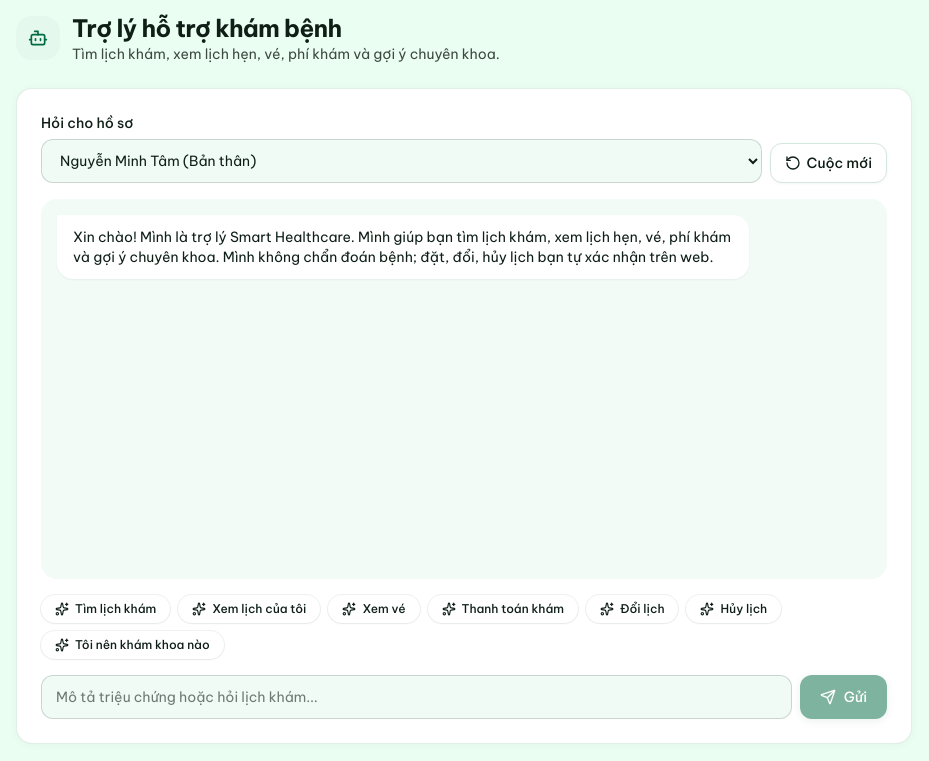
it: Patient Web › P25: suggestion button sends a turn and appointment option links to ticket, reschedule, cancel
This screenshot has width=929, height=761.
Click the button "Xem lịch của tôi". click: [249, 609]
box: top-left (178, 595), bottom-right (320, 623)
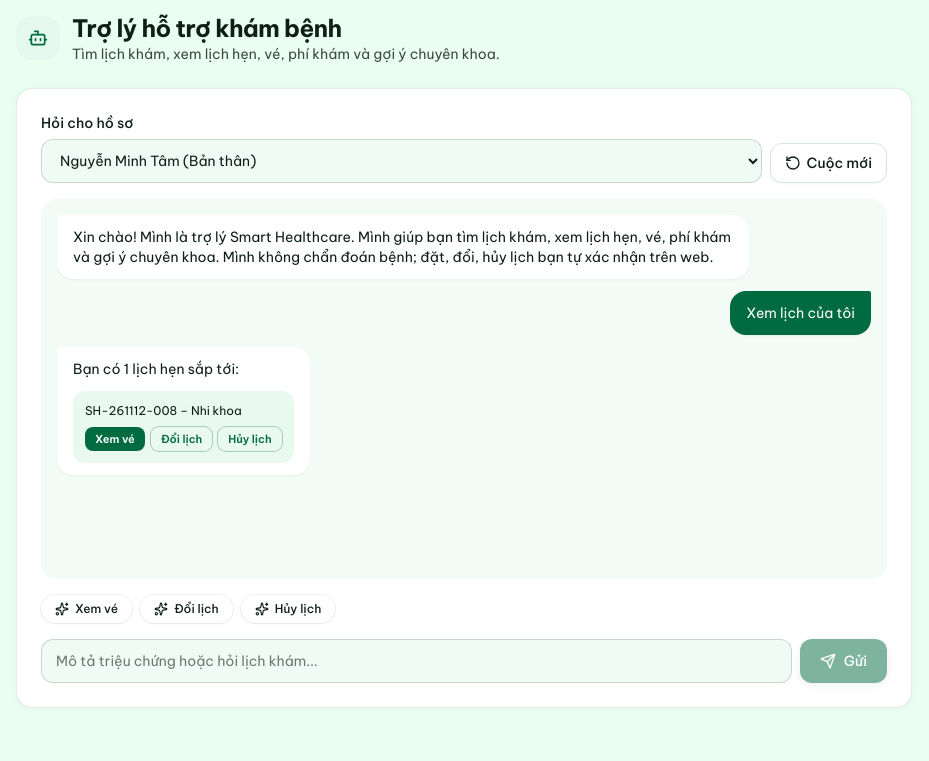
Now the text "Bạn có 1 lịch hẹn sắp tới:" is shown, box top-left (73, 360), bottom-right (239, 378)
